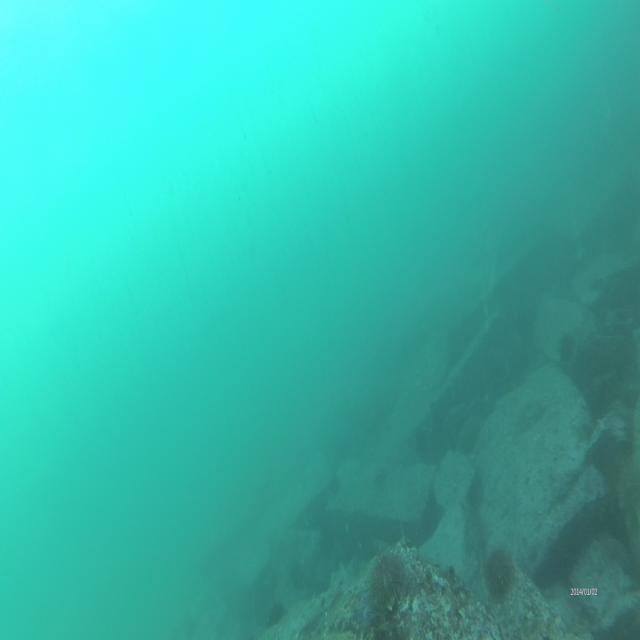echinus: (364, 550, 400, 600), (484, 544, 514, 594), (555, 332, 574, 363), (264, 601, 286, 623)
